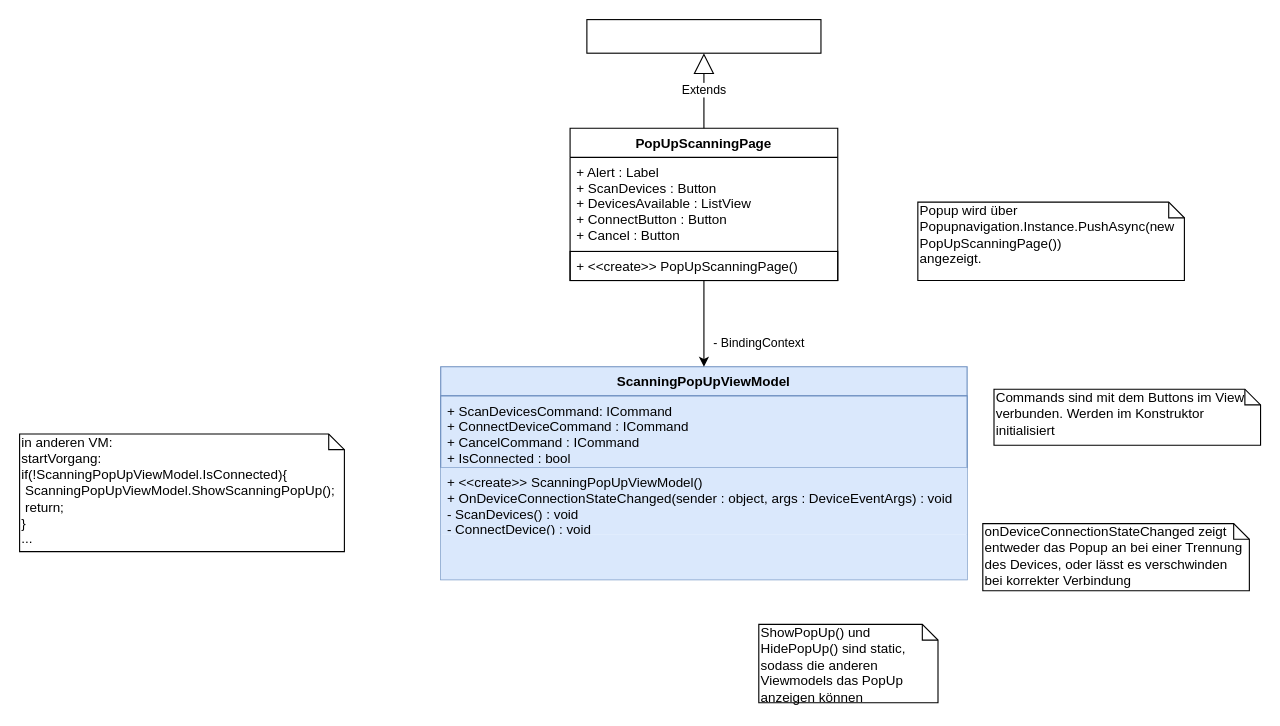
Some shapes in this 1280 by 726 pixel diagram are drawn without their labels. The shapes that lost their labels are listed below. From the top down, each one's box as (x1, y1, x2, y2) in pixels, then its label:
(586, 18, 821, 53): Rg.Plugins.Popup.PopupPage
(440, 534, 967, 579): + ShowPopUp() : void + HidePopUp() : void
